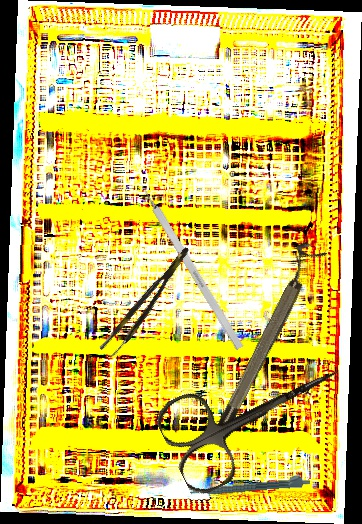Fixation Ring: (198, 239, 328, 448)
Handpiece: (189, 472, 311, 498)
Hook Surgical: (132, 172, 244, 351)
Iris Scissors: (150, 329, 361, 500)
Tissue Forceps: (98, 245, 199, 360)
